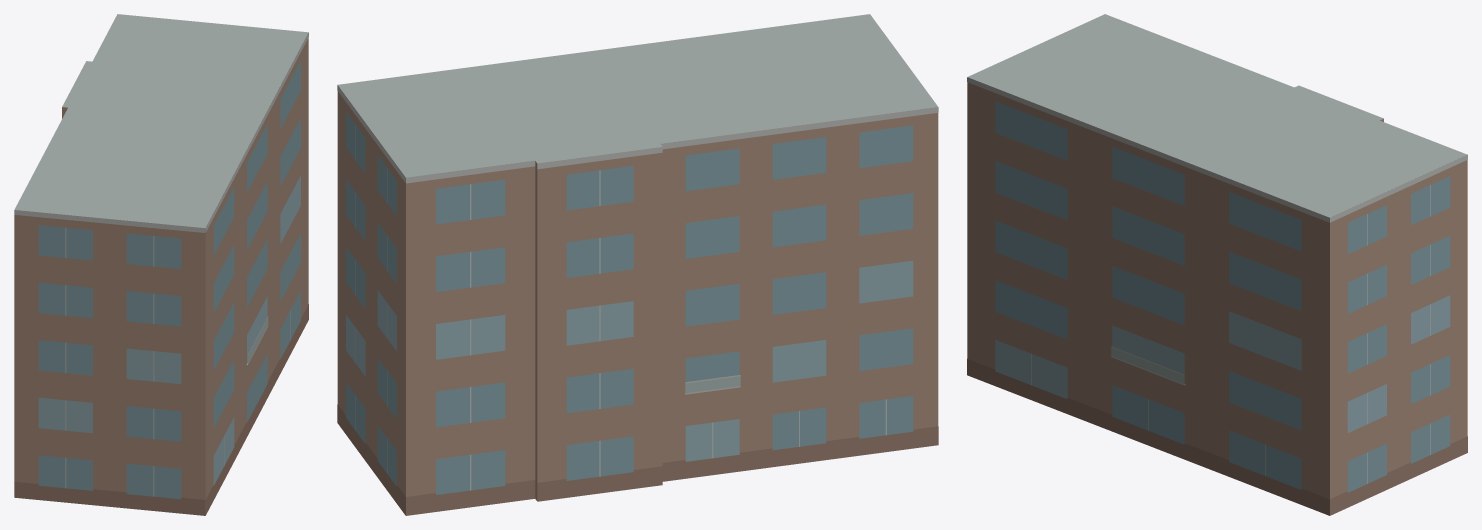
Rendered from survey-upis-32597102.glb.
The picture shows the model from 3 angles, left to right: view 1: azimuth 30°, elevation 25°; view 2: azimuth 150°, elevation 25°; view 3: azimuth 270°, elevation 25°; orthographic projection. The views are drawn at different scales.
Visible parts, largest first — view 1: survey-upis-32597102.tmp; view 2: survey-upis-32597102.tmp; view 3: survey-upis-32597102.tmp.
Part boxes in pixels (left/top/right/bottom): survey-upis-32597102.tmp: left=14, top=14, right=308, bottom=515; survey-upis-32597102.tmp: left=337, top=14, right=938, bottom=515; survey-upis-32597102.tmp: left=967, top=14, right=1467, bottom=515.
Size of the model in its own units: 21.11 by 14.4 by 21.92.
